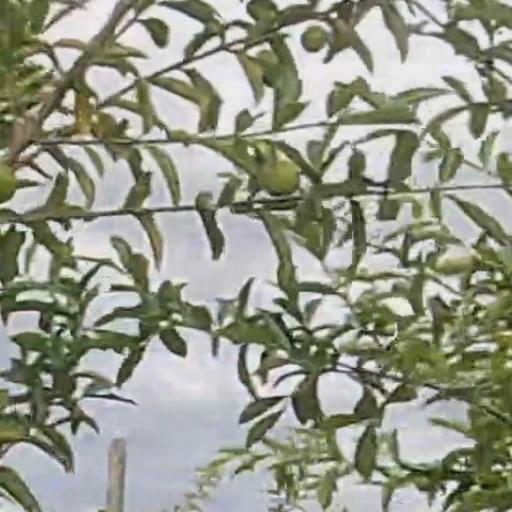acerola_verde: (262, 162, 299, 196), (1, 163, 15, 201)
